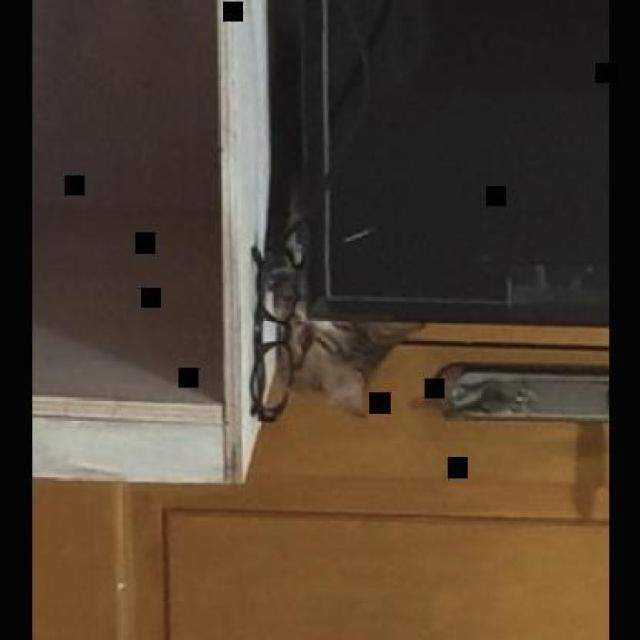unauthorized: (278, 294, 424, 417)
